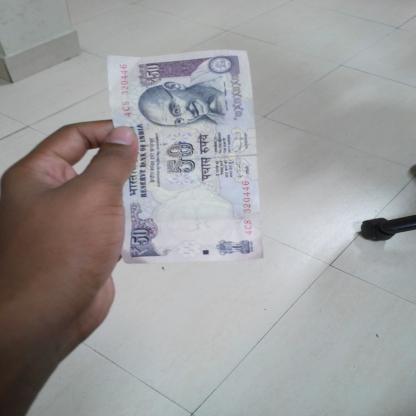Old50Front: (107, 50, 265, 263)
